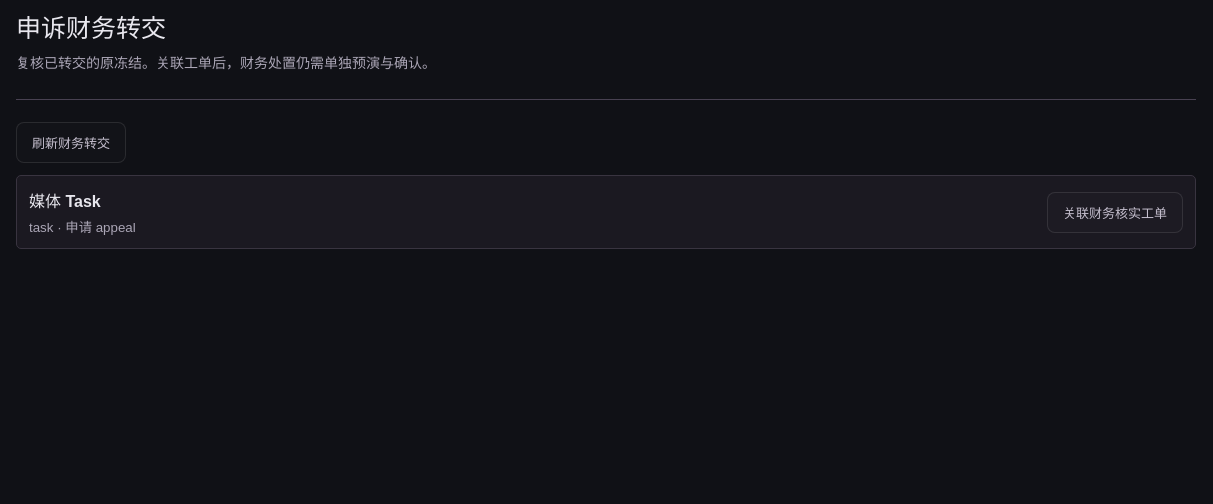
it: renders a redacted finance queue and uses only the original receipt after unknown linking
This screenshot has width=1213, height=504.
Later steps or results of the test are not shown.
Click the button "关联财务核实工单" at (1115, 212), box [1047,192,1183,233]
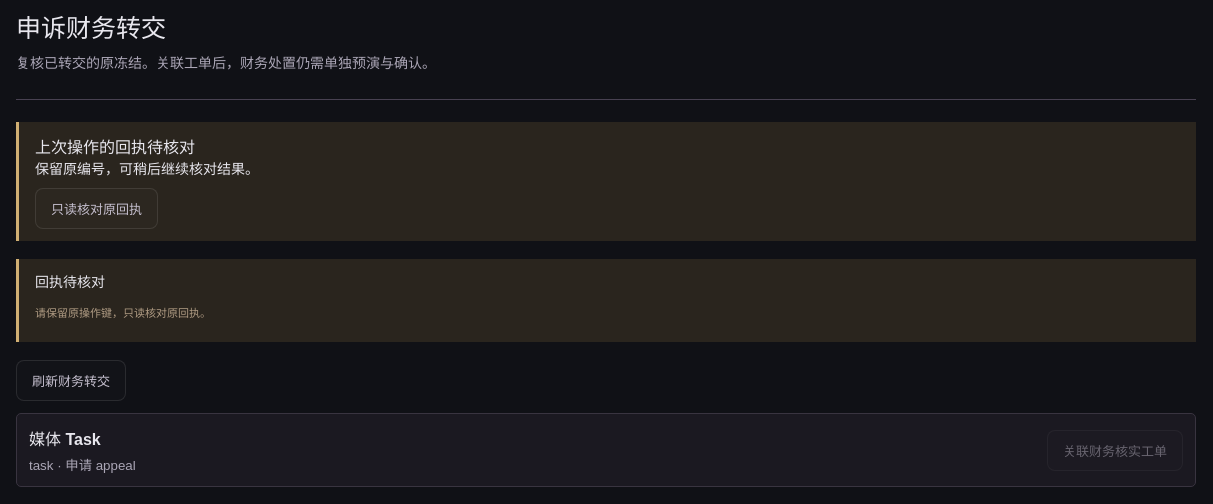
Now the button "只读核对原回执" is shown
Click the button "只读核对原回执" at (96, 209), box [35,188,158,229]
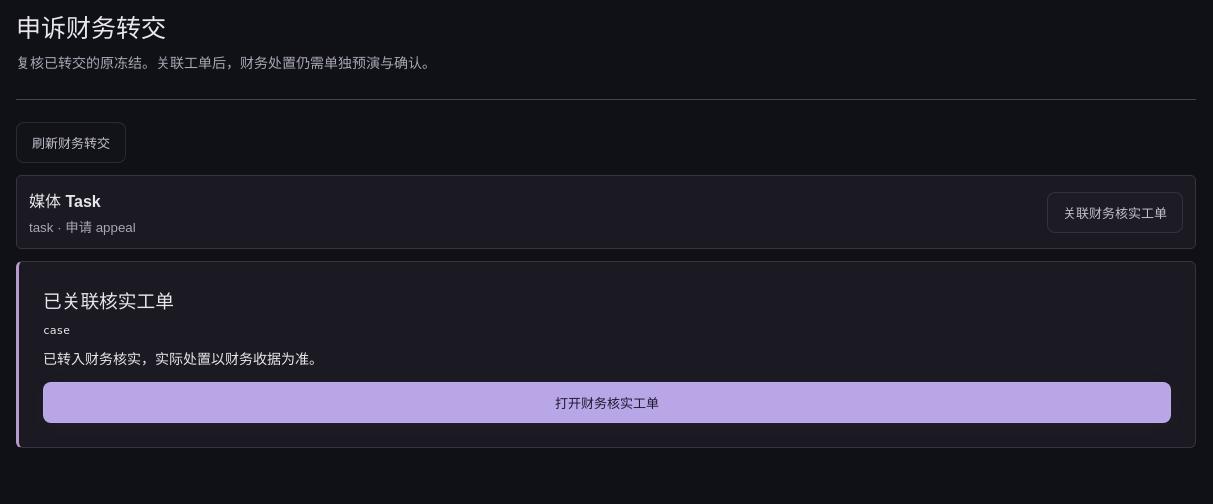
Now the button "打开财务核实工单" is shown, box [43,382,1171,423]
